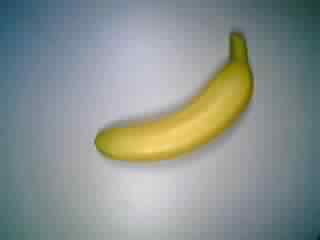banana: (93, 28, 259, 170)
